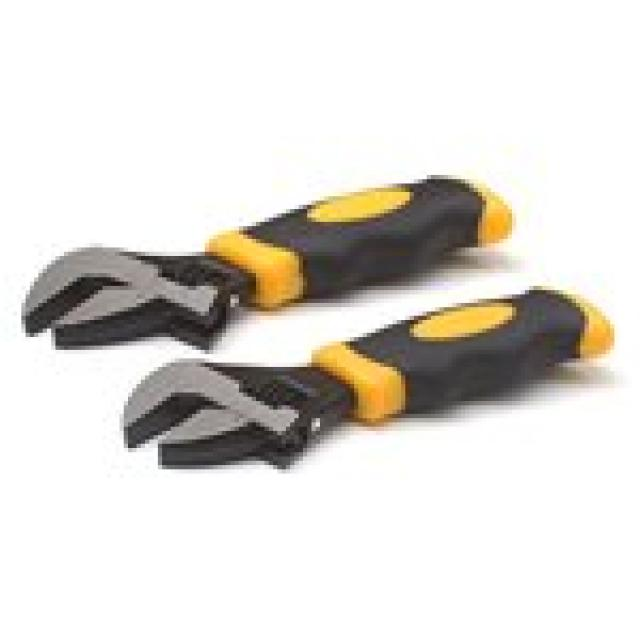wrench: (0, 149, 640, 500)
